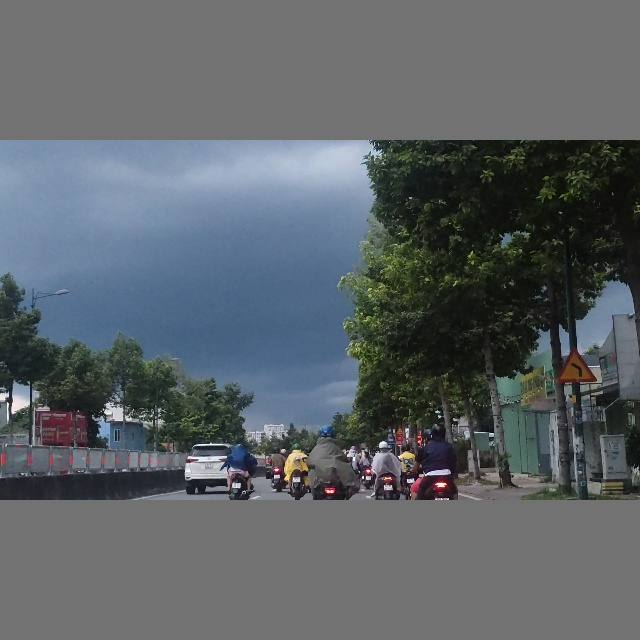W.201a: (555, 345, 598, 383)
